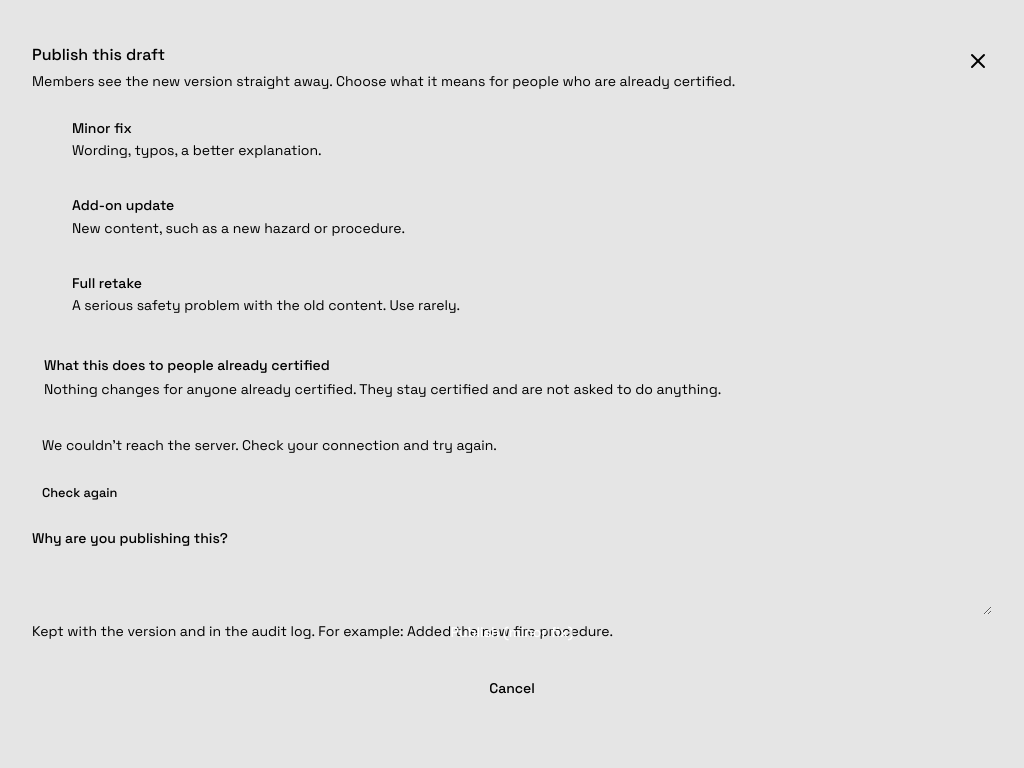
Test case: PublishDialog publishing › lets the user try the check again when it could not run
expect the text "reach the server" is shown: met, box [42, 436, 497, 454]
Click the button "Check again". click: point(80, 492)
box: [32, 470, 127, 514]
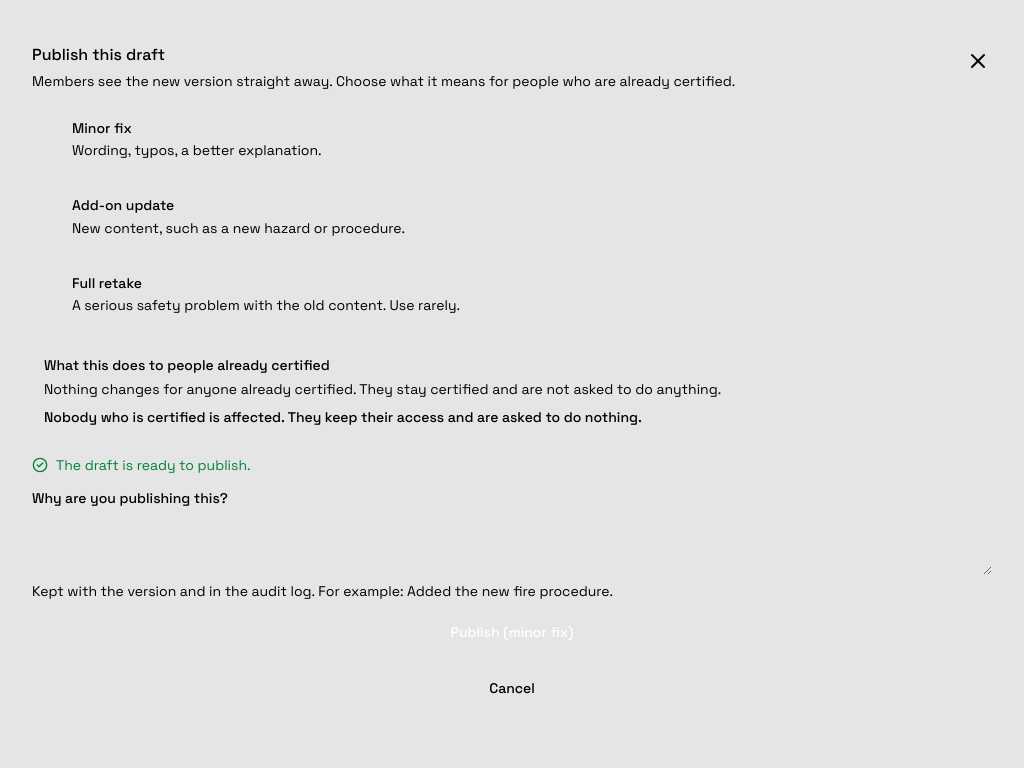
expect the text "The draft is ready to publish." is shown: met, box [32, 456, 250, 474]
